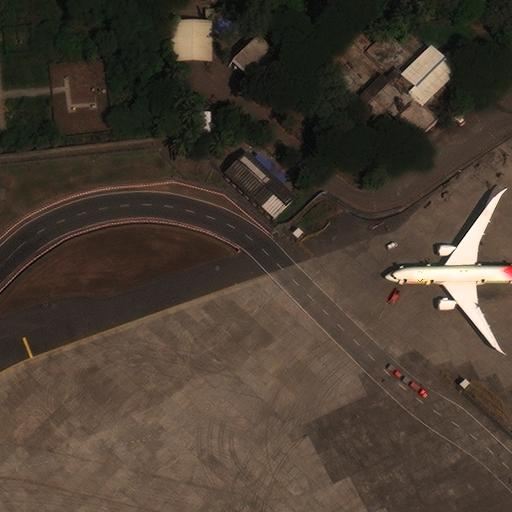Large Civil Transport: (383, 187, 511, 355)
